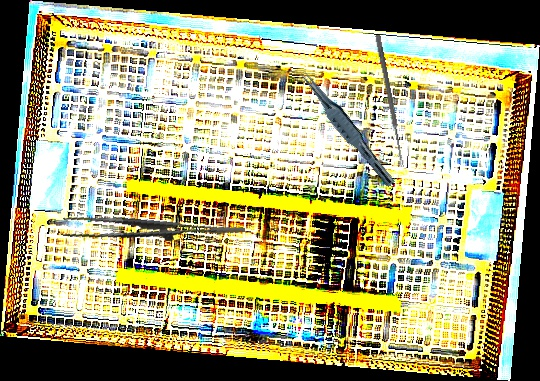Surgical Spoon: (374, 34, 406, 168)
Tissue Forceps: (292, 66, 402, 189), (60, 199, 246, 264)
